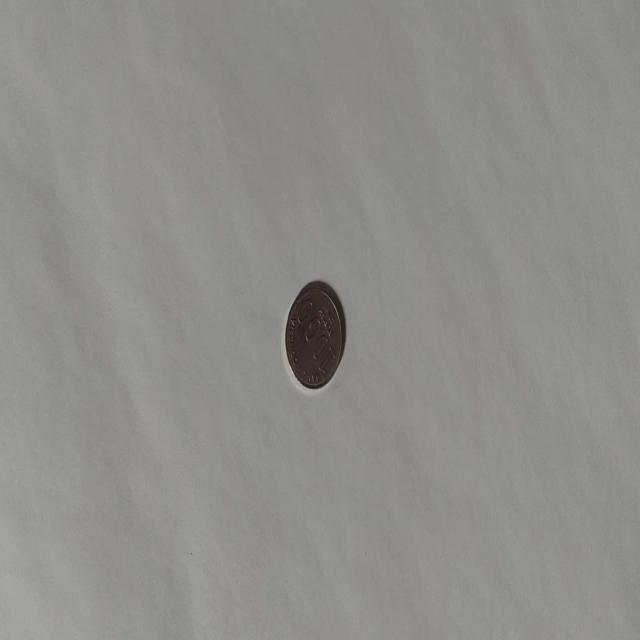seribu rupiah koin: (283, 279, 344, 391)
